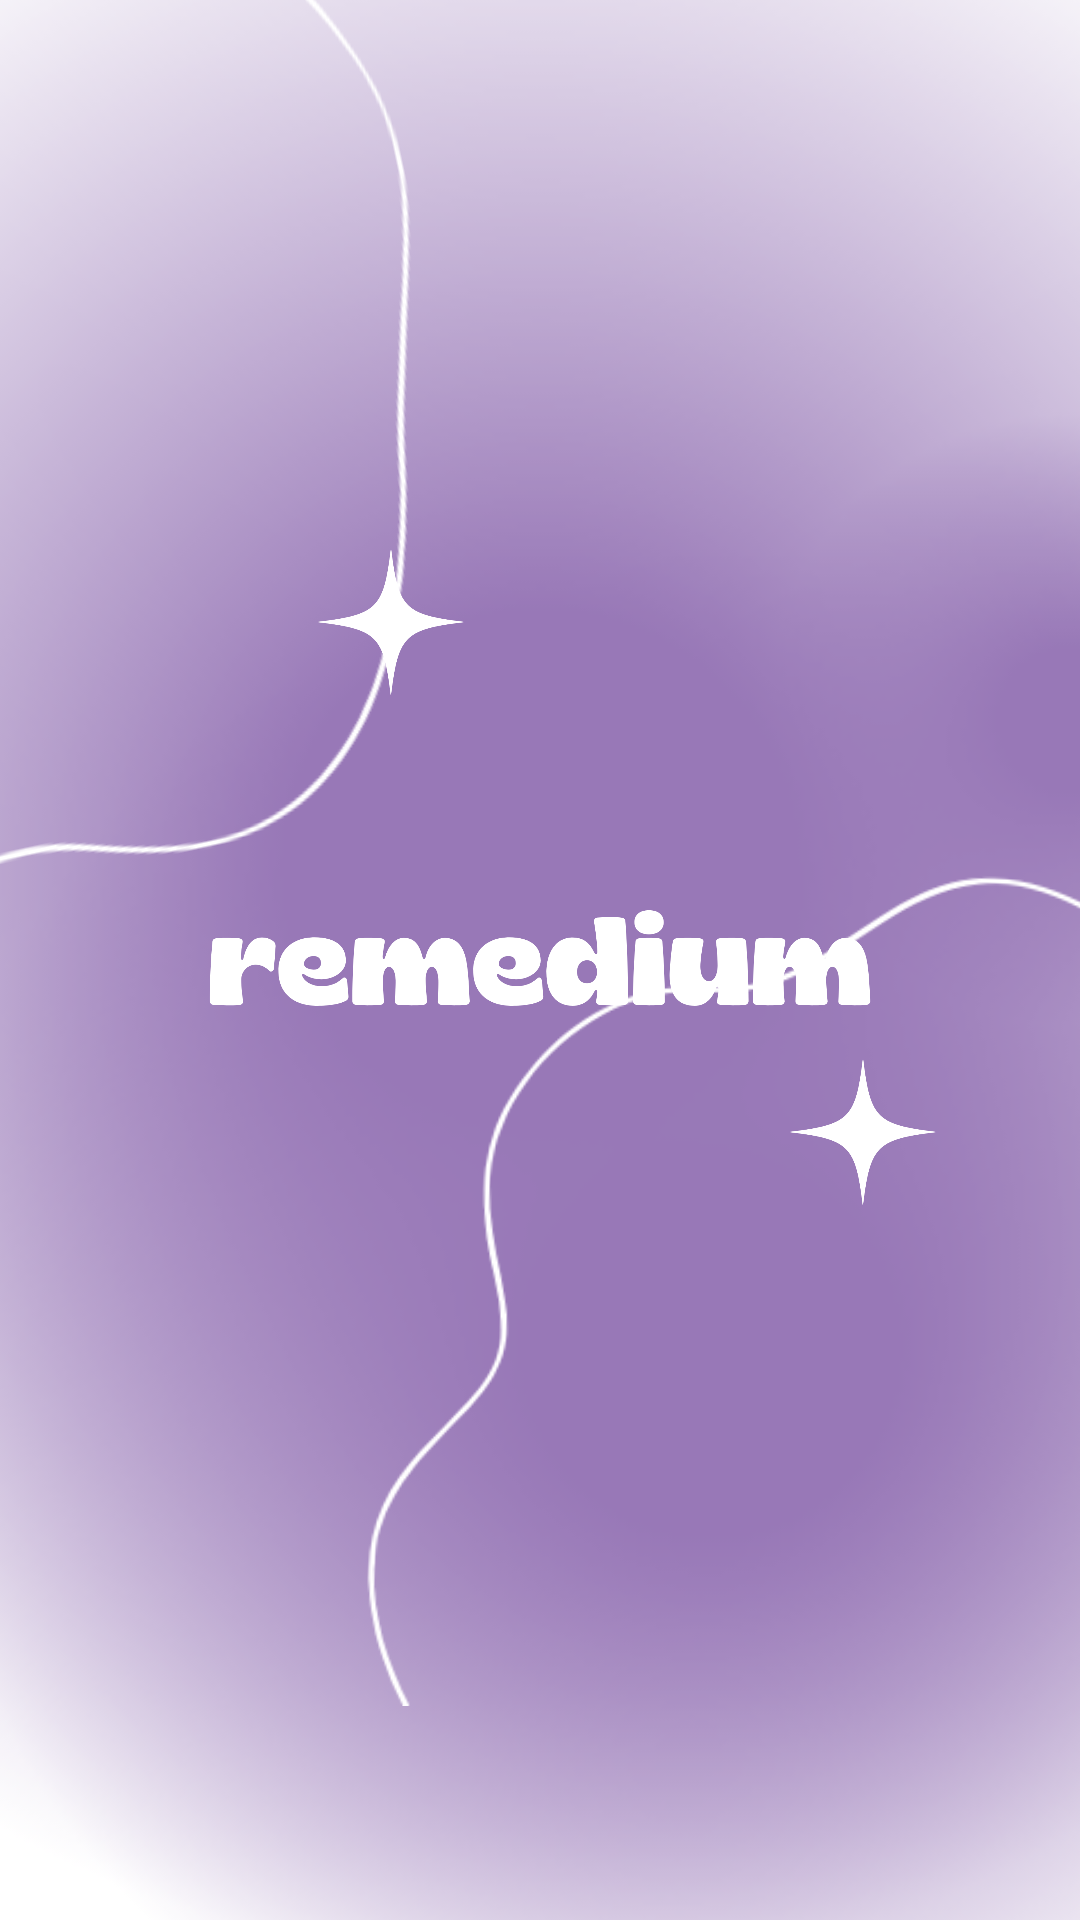

Icons on this 1080px x 1920px Android screen, each with the point to tap as [x,y]:
destello: [390,622], [863,1132]
